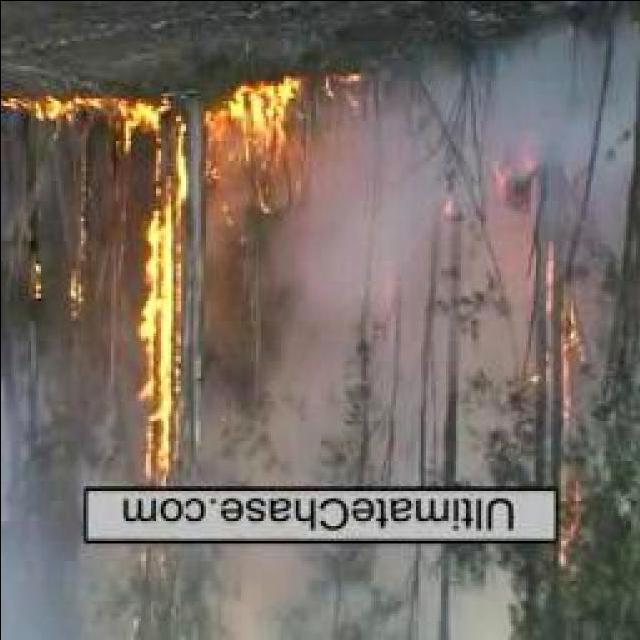Fire: (3, 80, 308, 156), (135, 153, 171, 476), (548, 298, 586, 420), (550, 473, 580, 571), (60, 253, 88, 320), (24, 247, 42, 298)
